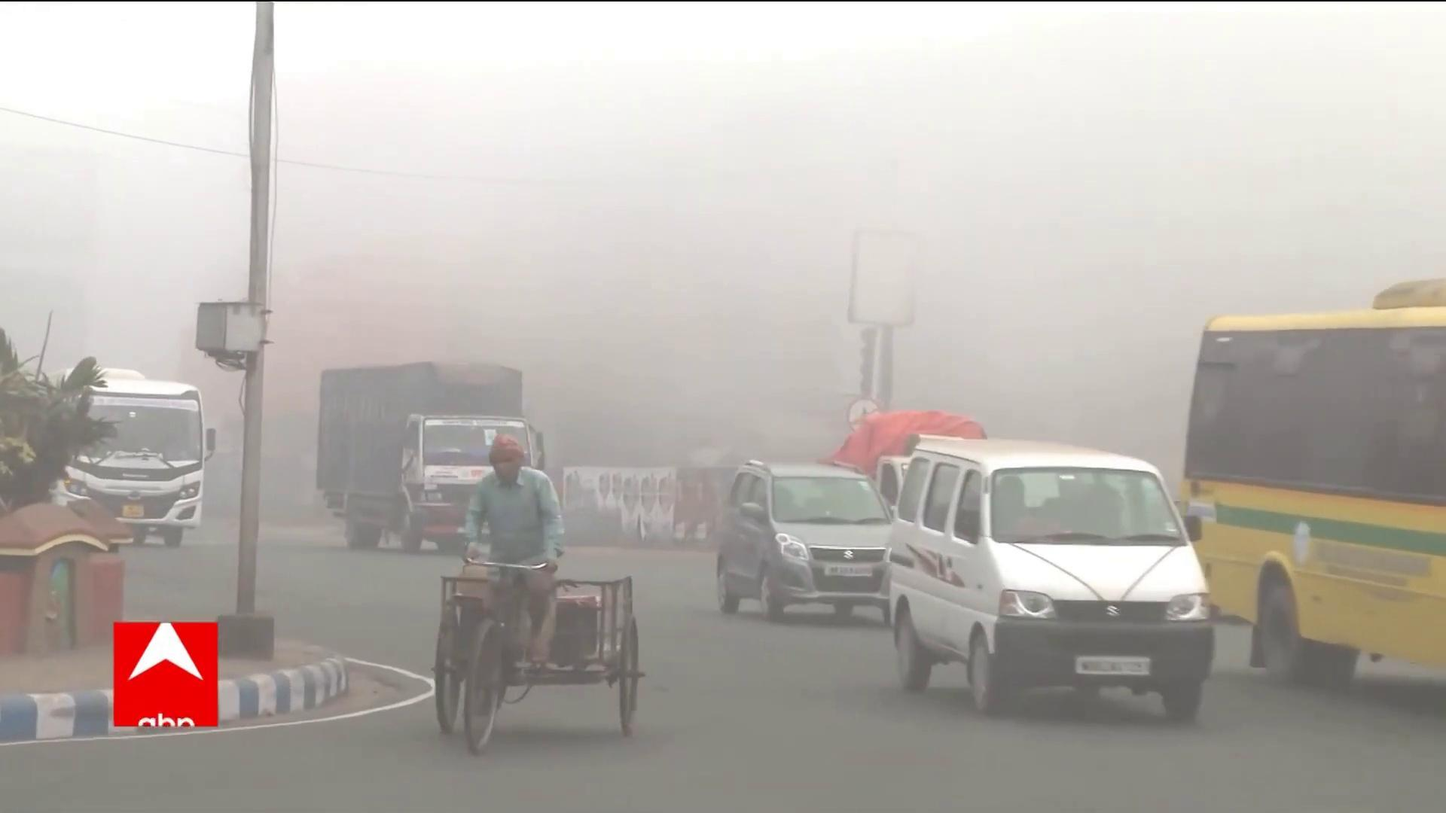Bus: (1185, 272, 1446, 695), (60, 355, 209, 555)
Car: (879, 432, 1217, 725), (721, 456, 900, 629)
Truck: (311, 355, 556, 570)
